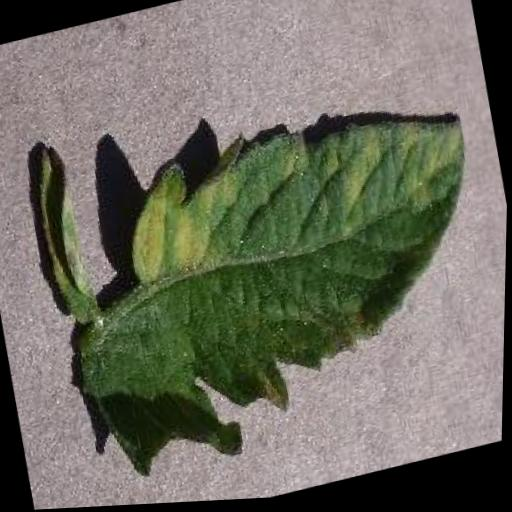Leaf Mold: (35, 87, 510, 491)
